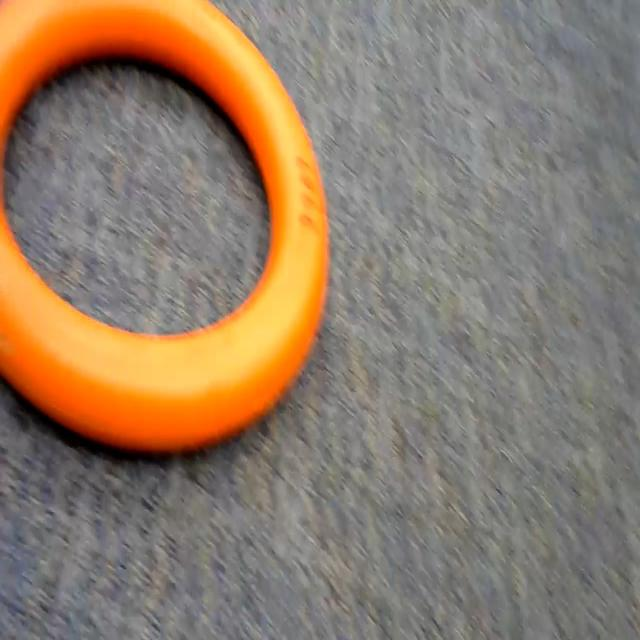note: (0, 0, 335, 458)
